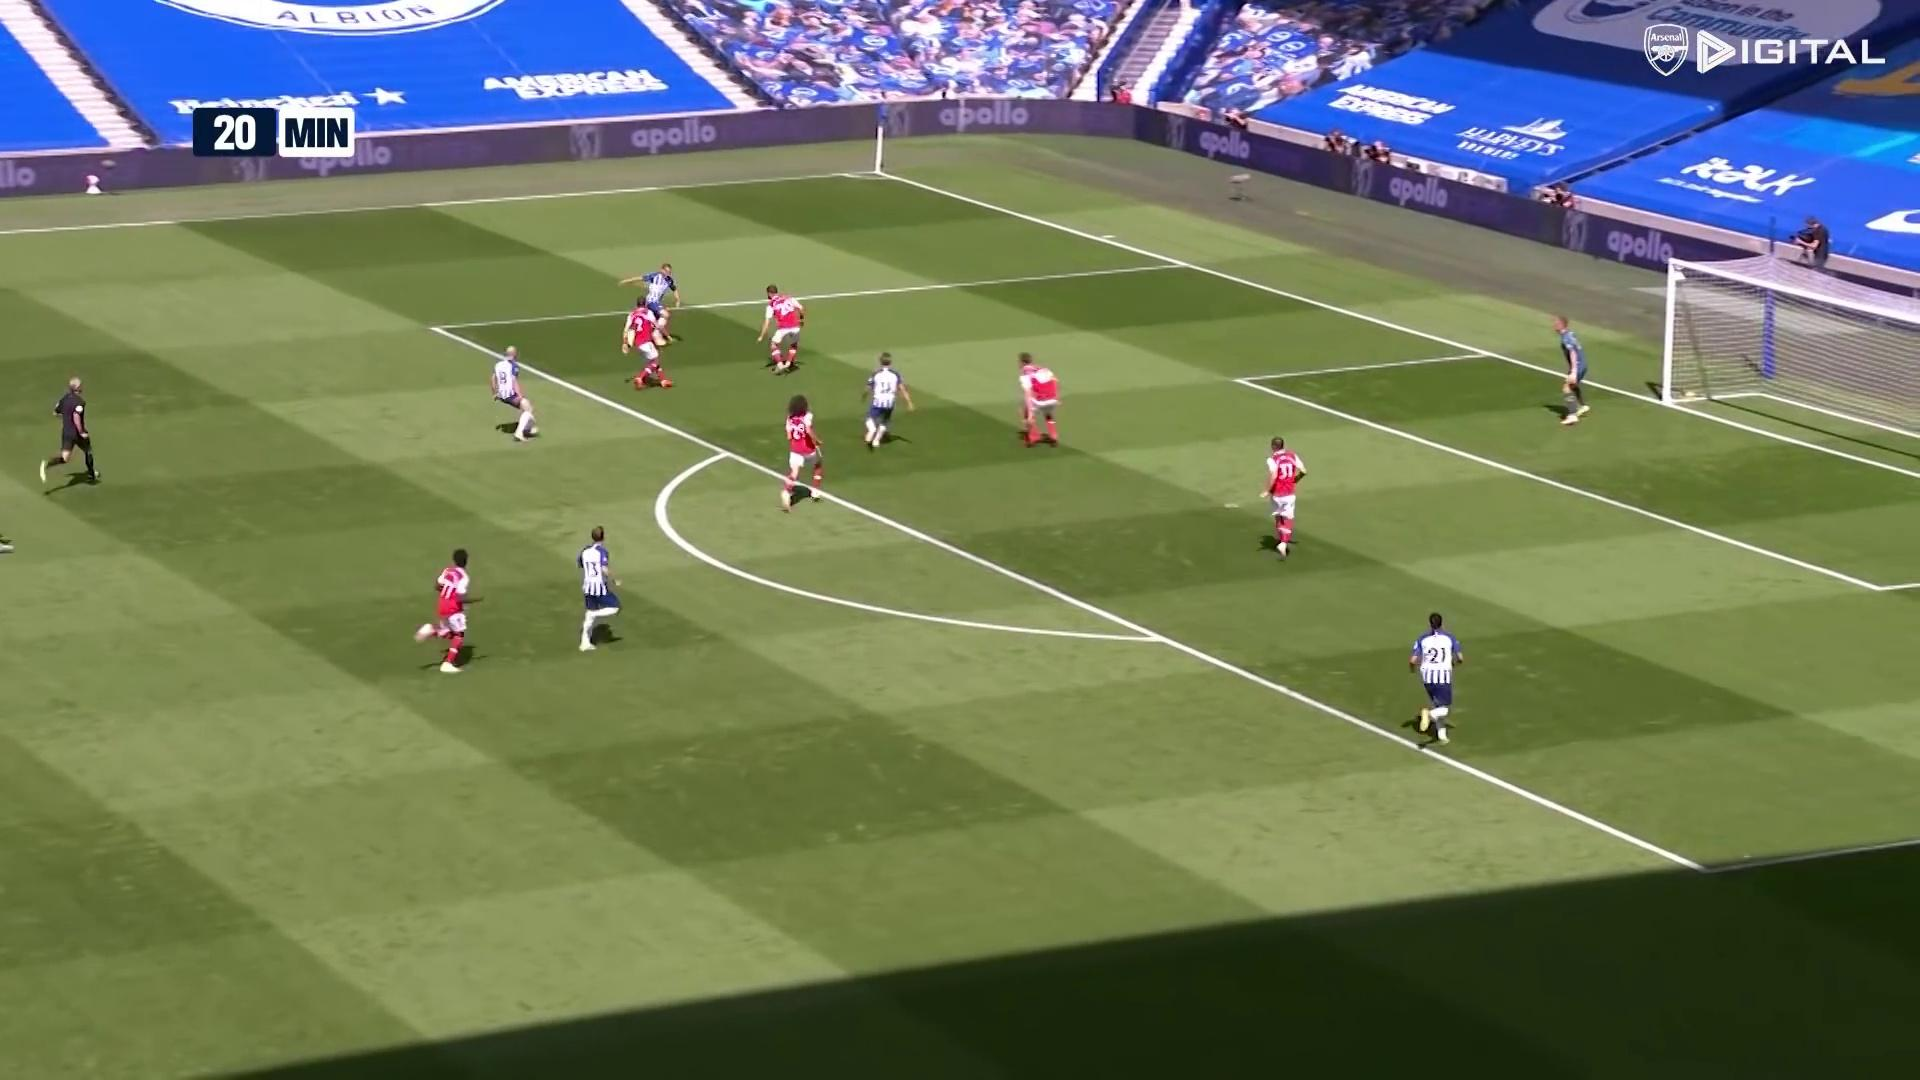ball: (649, 328, 666, 343)
goalkeeper: (1542, 313, 1596, 428)
player: (1406, 611, 1469, 750), (419, 548, 482, 681), (572, 527, 628, 658), (776, 392, 828, 512), (1258, 434, 1308, 558), (858, 349, 913, 454), (1016, 349, 1070, 453), (493, 342, 546, 445), (628, 261, 686, 355), (755, 283, 808, 380), (626, 295, 676, 394)
referee: (35, 371, 106, 493)
